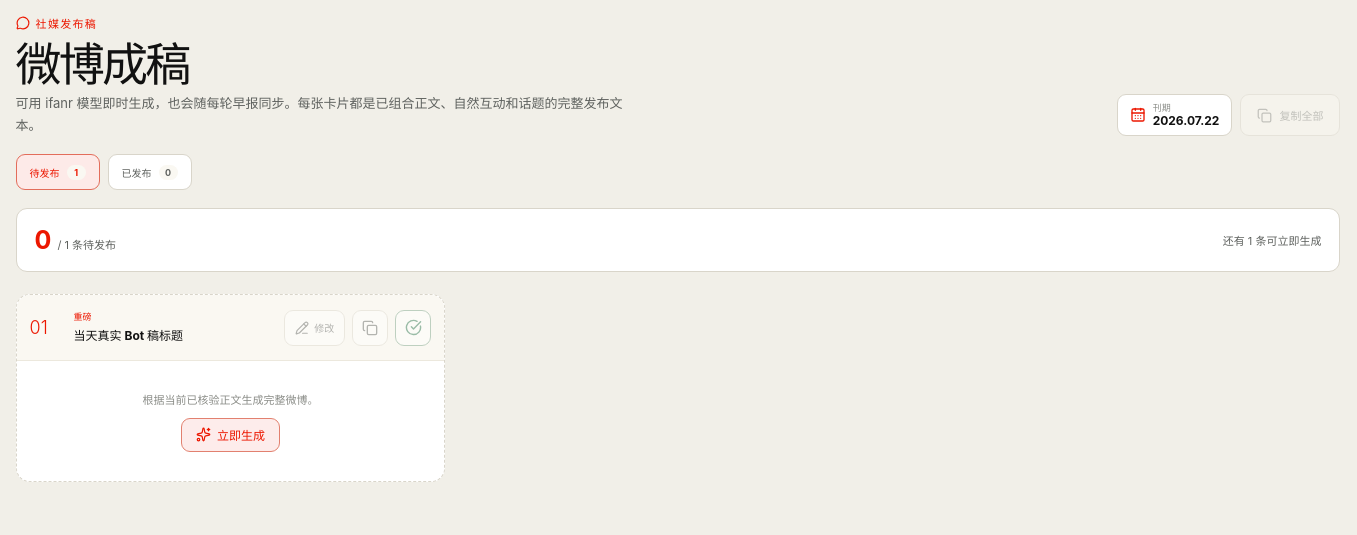
Scenario: App › generates a missing Weibo post immediately and saves it to the Worker
This screenshot has width=1357, height=535.
Step 1. Click the button "立即生成" → [230, 435], box [181,418,280,452]
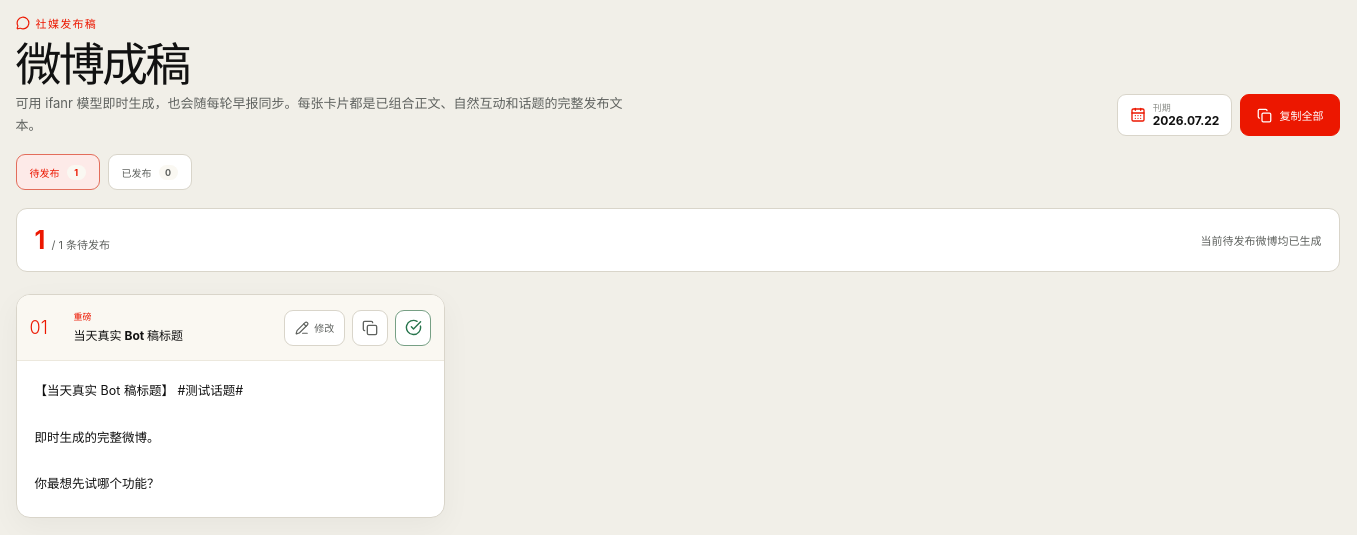
Check: the text "【当天真实 Bot 稿标题】 #测试话题# 即时生成的完整微博。 你最想先试哪个功能？" is shown, box [35,383,243,491]
